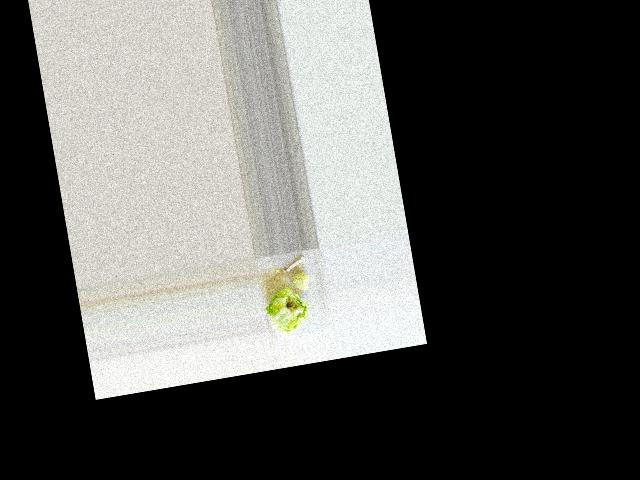lettuce: (265, 289, 311, 338)
